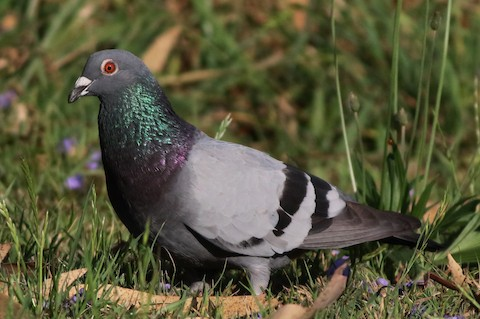pigeon: (62, 42, 425, 303)
